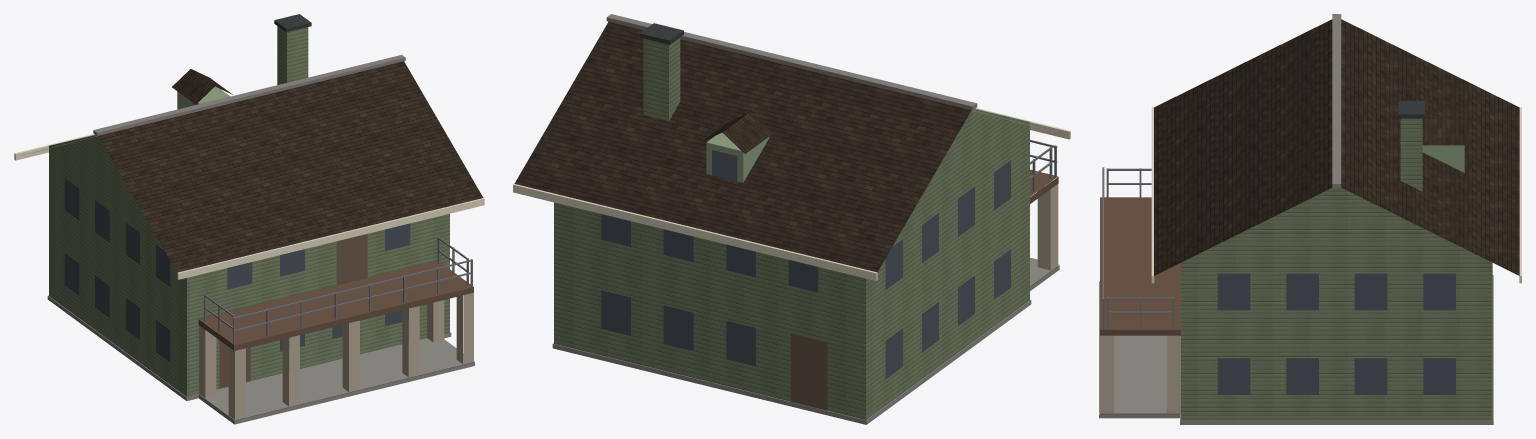
File: rw-craftsman.zfix-v22.lod1.glb
The picture shows the model from 3 angles, left to right: view 1: azimuth 30°, elevation 25°; view 2: azimuth 150°, elevation 25°; view 3: azimuth 270°, elevation 25°; orthographic projection. The views are drawn at different scales.
Visible parts, largest first — view 1: rw-craftsman; view 2: rw-craftsman; view 3: rw-craftsman.
Boxes of the visible parts, x1,y1,x2,y2 form: rw-craftsman: (14, 14, 484, 424); rw-craftsman: (513, 14, 1070, 424); rw-craftsman: (1099, 14, 1521, 424).
Size of the model in its own units: 12.9 by 10.16 by 13.57.
Materials: 3 (2 with a texture image).
